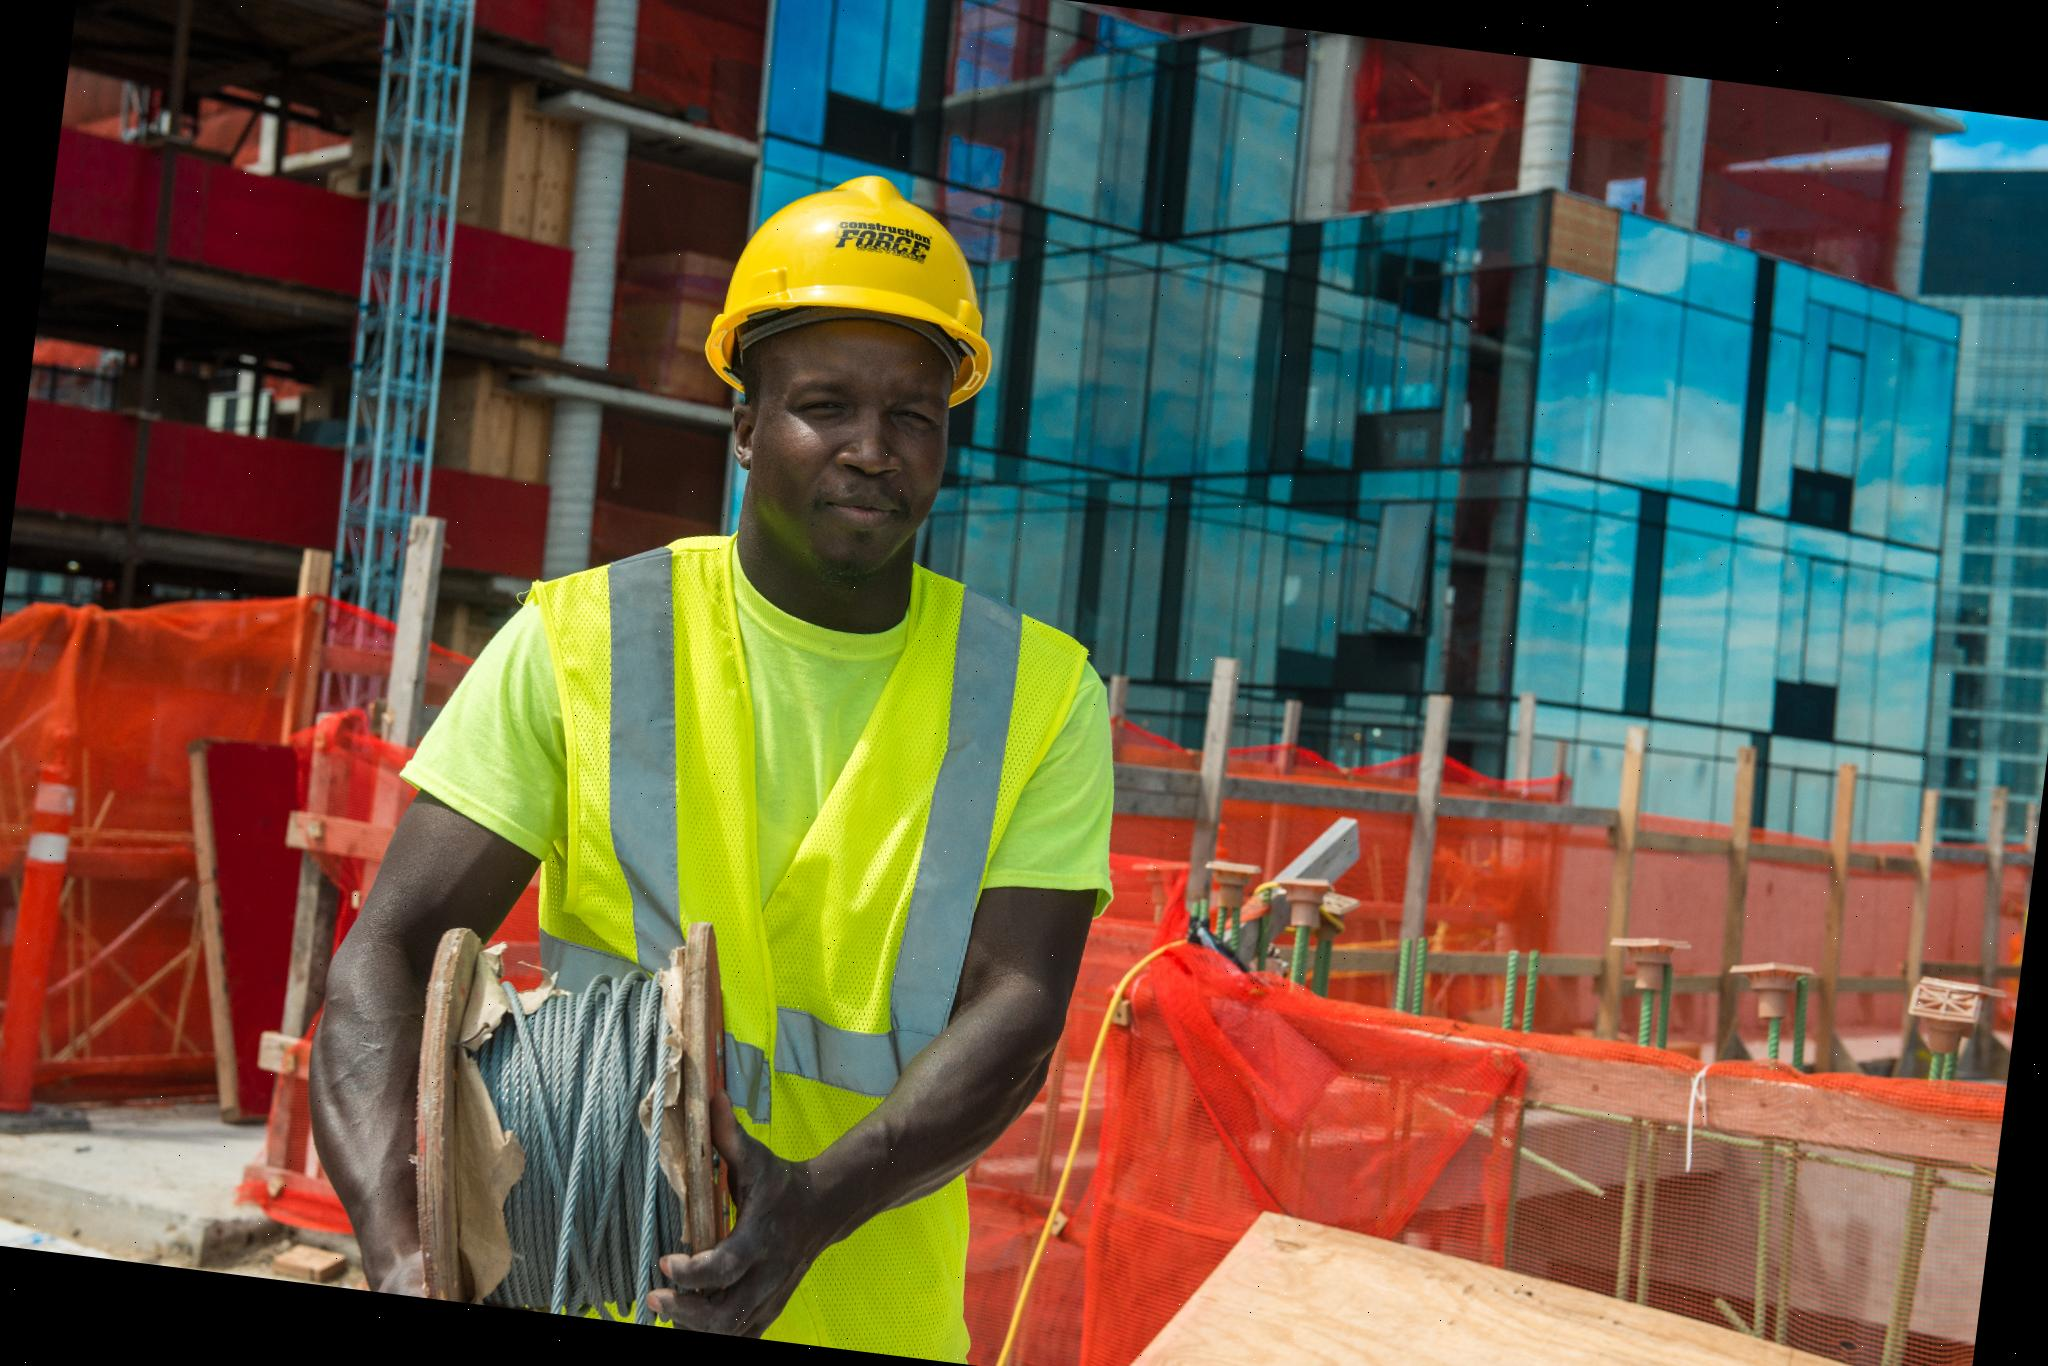helmet: (695, 149, 1024, 413)
wear: (405, 546, 1082, 1326)
